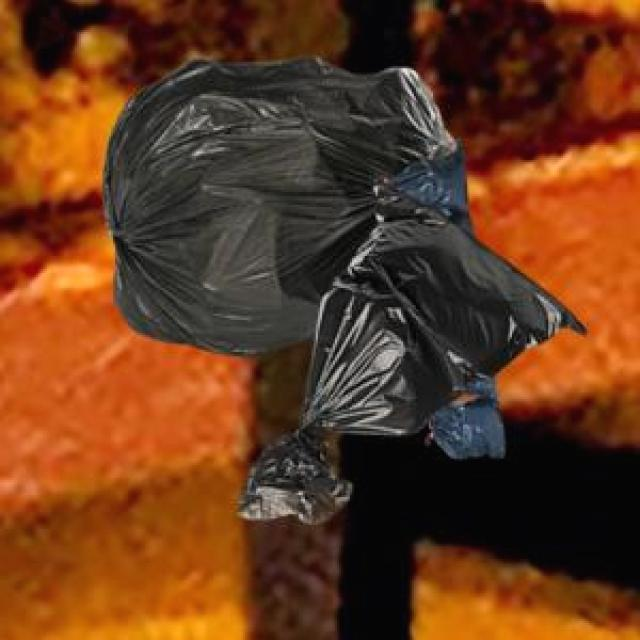Trashbag: (103, 39, 358, 359), (306, 190, 590, 464)
